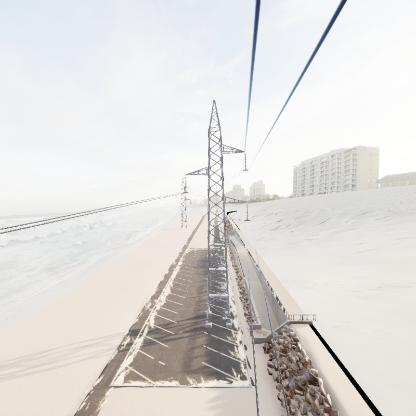tower: (177, 97, 258, 336)
